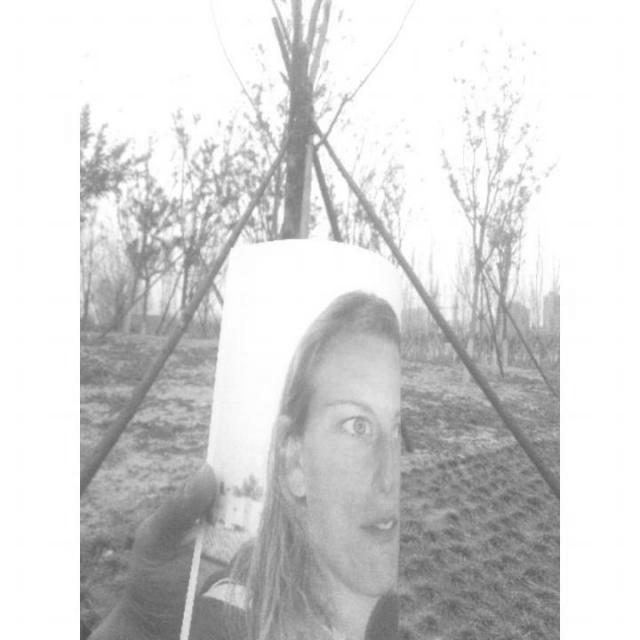fake: (177, 236, 410, 638)
